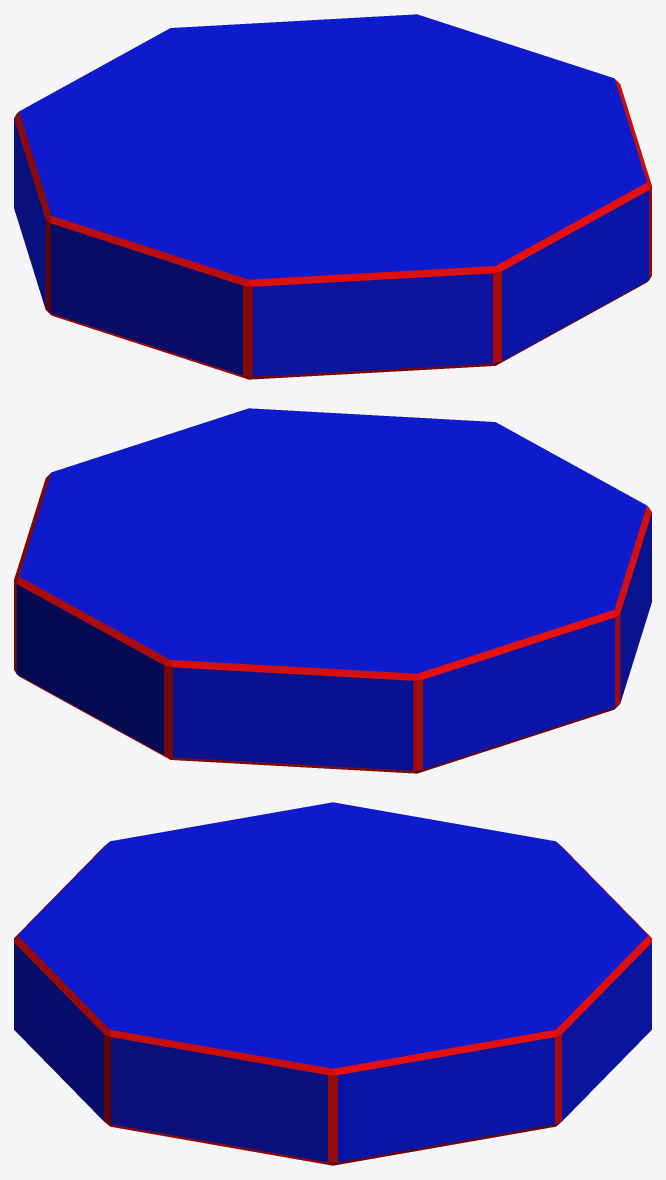
File: L10_MovingPlateform.fbx
3 views of the same model, one above another, from view 1: azimuth 30°, elevation 25°; view 2: azimuth 150°, elevation 25°; view 3: azimuth 270°, elevation 25° (orthographic). The views are drawn at different scales.
Visible parts, largest first — view 1: L10_MovingPlateform; view 2: L10_MovingPlateform; view 3: L10_MovingPlateform.
Boxes of the visible parts, bbox=[...] form: L10_MovingPlateform: bbox=[14, 14, 651, 379]; L10_MovingPlateform: bbox=[14, 408, 651, 773]; L10_MovingPlateform: bbox=[14, 802, 651, 1165].
Bounding box in the file's own units: 596 × 100 × 596.
